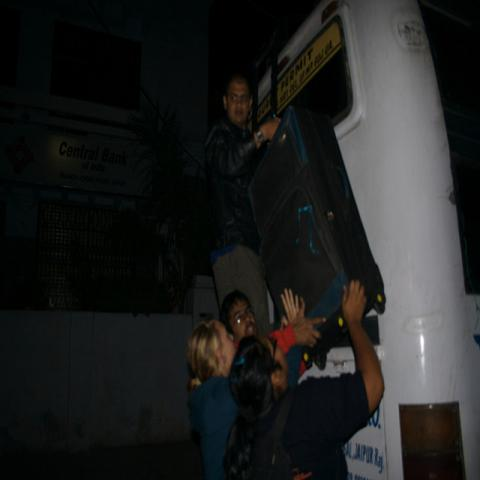bus: (259, 1, 479, 476)
